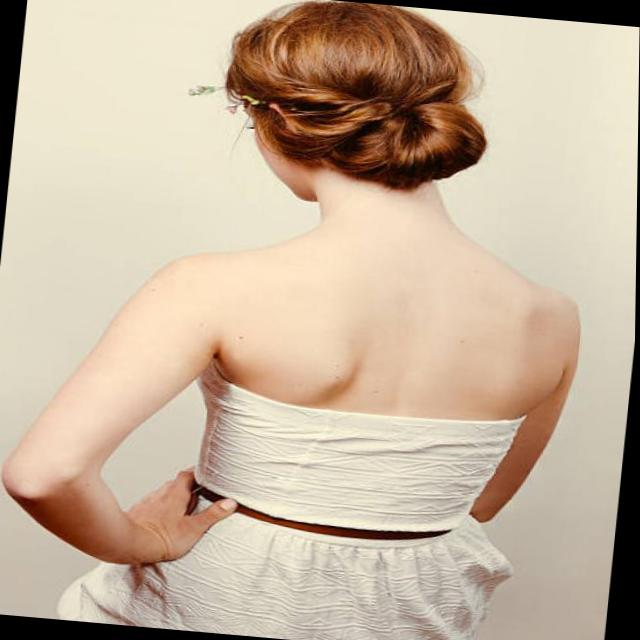no helmet: (206, 0, 510, 238)
